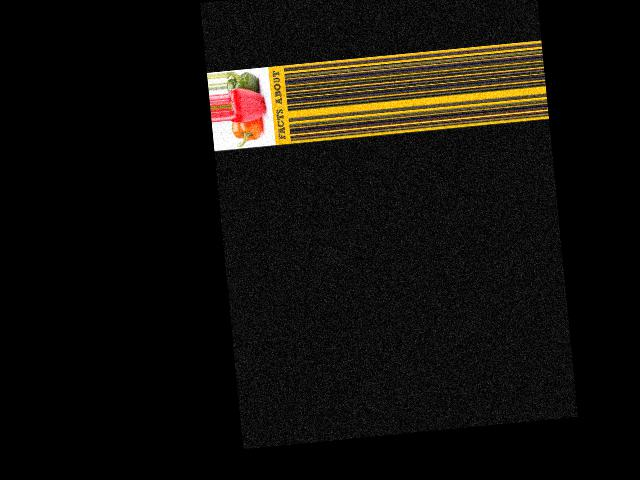bell_pepper: (226, 68, 264, 91)
